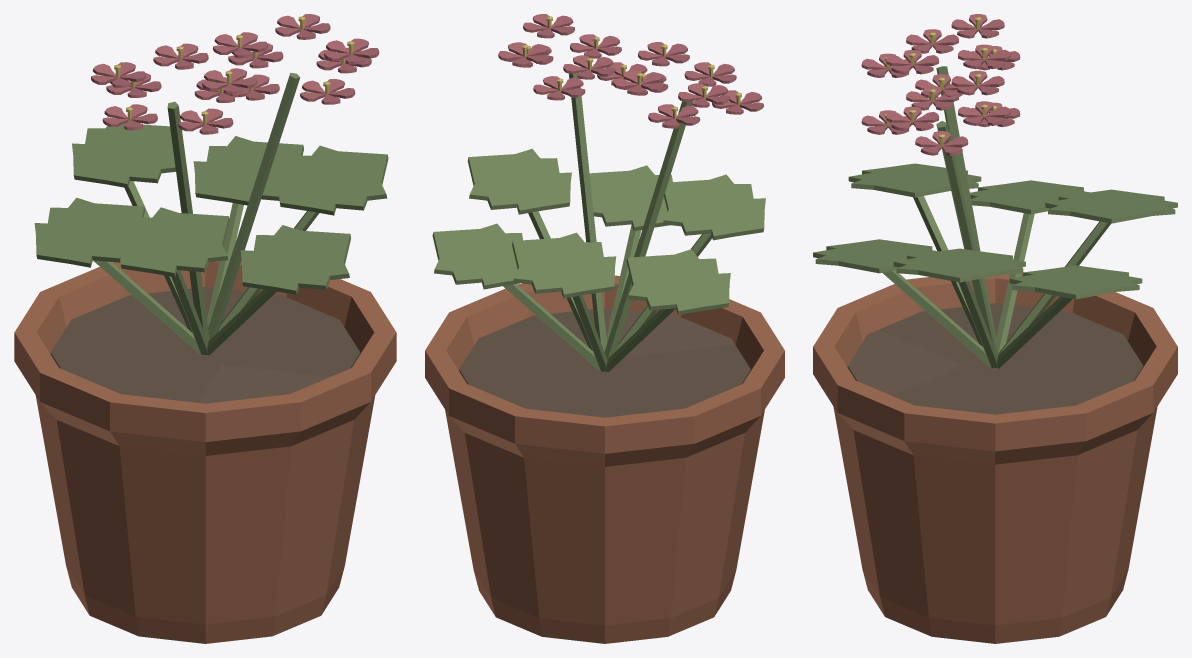
Rendered from pelargonium.glb.
3 views of the same model, side by side, from view 1: azimuth 30°, elevation 25°; view 2: azimuth 150°, elevation 25°; view 3: azimuth 270°, elevation 25° (orthographic). The views are drawn at different scales.
Visible parts, largest first — view 1: pelargonium/review-terra-vessel, pelargonium/review-rooted-soil, pelargonium/leaf-004, pelargonium/leaf-012, pelargonium/leaf-002, pelargonium/leaf-008, pelargonium/leaf-010, pelargonium/leaf-006, pelargonium/petiole-063, pelargonium/petiole-013, pelargonium/petiole-009, pelargonium/petiole-005 (+4 smaller); view 2: pelargonium/review-terra-vessel, pelargonium/review-rooted-soil, pelargonium/leaf-010, pelargonium/leaf-004, pelargonium/leaf-008, pelargonium/leaf-012, pelargonium/leaf-006, pelargonium/leaf-002, pelargonium/petiole-013, pelargonium/petiole-063, pelargonium/petiole-005, pelargonium/petiole-009 (+4 smaller); view 3: pelargonium/review-terra-vessel, pelargonium/review-rooted-soil, pelargonium/leaf-006, pelargonium/leaf-008, pelargonium/leaf-004, pelargonium/leaf-012, pelargonium/leaf-002, pelargonium/leaf-010, pelargonium/petiole-063, pelargonium/petiole-001, pelargonium/petiole-013, pelargonium/petiole-009 (+4 smaller).
Boxes of the visible parts, left/top/right/bottom form: pelargonium/review-terra-vessel: left=14, top=260, right=396, bottom=643; pelargonium/review-rooted-soil: left=50, top=287, right=360, bottom=403; pelargonium/leaf-004: left=278, top=145, right=388, bottom=215; pelargonium/leaf-012: left=119, top=207, right=229, bottom=277; pelargonium/leaf-002: left=240, top=225, right=350, bottom=294; pelargonium/leaf-008: left=72, top=123, right=182, bottom=188; pelargonium/leaf-010: left=34, top=197, right=144, bottom=267; pelargonium/leaf-006: left=193, top=136, right=303, bottom=205; pelargonium/petiole-063: left=208, top=72, right=300, bottom=340; pelargonium/petiole-013: left=167, top=101, right=209, bottom=341; pelargonium/petiole-009: left=93, top=260, right=200, bottom=353; pelargonium/petiole-005: left=207, top=203, right=243, bottom=326; pelargonium/review-terra-vessel: left=425, top=275, right=784, bottom=643; pelargonium/review-rooted-soil: left=459, top=307, right=750, bottom=417; pelargonium/leaf-010: left=626, top=249, right=730, bottom=315; pelargonium/leaf-004: left=467, top=148, right=571, bottom=214; pelargonium/leaf-008: left=512, top=232, right=616, bottom=298; pelargonium/leaf-012: left=663, top=174, right=765, bottom=240; pelargonium/leaf-006: left=432, top=223, right=522, bottom=289; pelargonium/leaf-002: left=589, top=165, right=672, bottom=231; pelargonium/petiole-013: left=604, top=101, right=692, bottom=358; pelargonium/petiole-063: left=568, top=73, right=606, bottom=351; pelargonium/petiole-005: left=503, top=284, right=600, bottom=370; pelargonium/petiole-009: left=606, top=308, right=675, bottom=371; pelargonium/review-terra-vessel: left=813, top=273, right=1177, bottom=643; pelargonium/review-rooted-soil: left=847, top=303, right=1143, bottom=414; pelargonium/leaf-006: left=1009, top=265, right=1142, bottom=299; pelargonium/leaf-008: left=1045, top=189, right=1177, bottom=223; pelargonium/leaf-004: left=893, top=248, right=1025, bottom=282; pelargonium/leaf-012: left=848, top=163, right=981, bottom=197; pelargonium/leaf-002: left=813, top=239, right=937, bottom=273; pelargonium/leaf-010: left=970, top=180, right=1090, bottom=214; pelargonium/petiole-063: left=936, top=121, right=998, bottom=355; pelargonium/petiole-001: left=882, top=270, right=991, bottom=367; pelargonium/petiole-013: left=936, top=66, right=998, bottom=351; pelargonium/petiole-009: left=996, top=213, right=1034, bottom=352.
Bounding box in the file's own units: 0.19 × 0.3033 × 0.19.
Materials: 5 (5 with a texture image).
